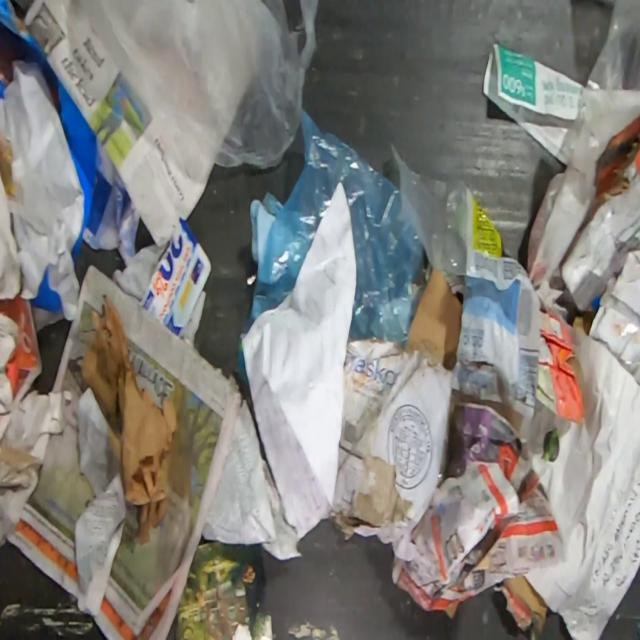cardboard: (328, 337, 455, 563), (139, 216, 213, 339), (404, 268, 462, 371), (534, 311, 586, 425), (504, 576, 549, 631)
soft_plastic: (390, 141, 542, 444), (81, 0, 321, 185), (244, 108, 425, 351), (0, 60, 86, 322), (585, 0, 639, 92), (587, 306, 639, 386)
